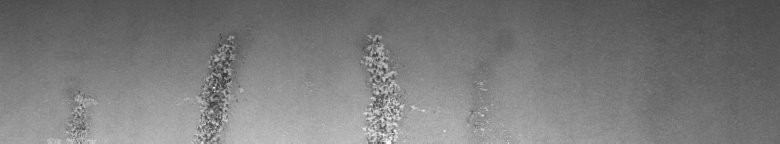hc: (184, 28, 245, 136)
